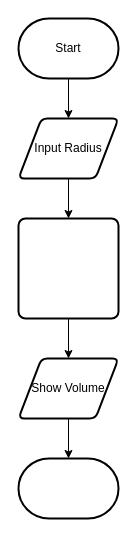
The diagram is 136 pixels wide and 536 high, and some of its shapes have lost their labels. Each missing label, with the centre of its shape:
"Stop" goes at (x=68, y=488).
"V = 4/3 πr³" goes at (x=68, y=268).
